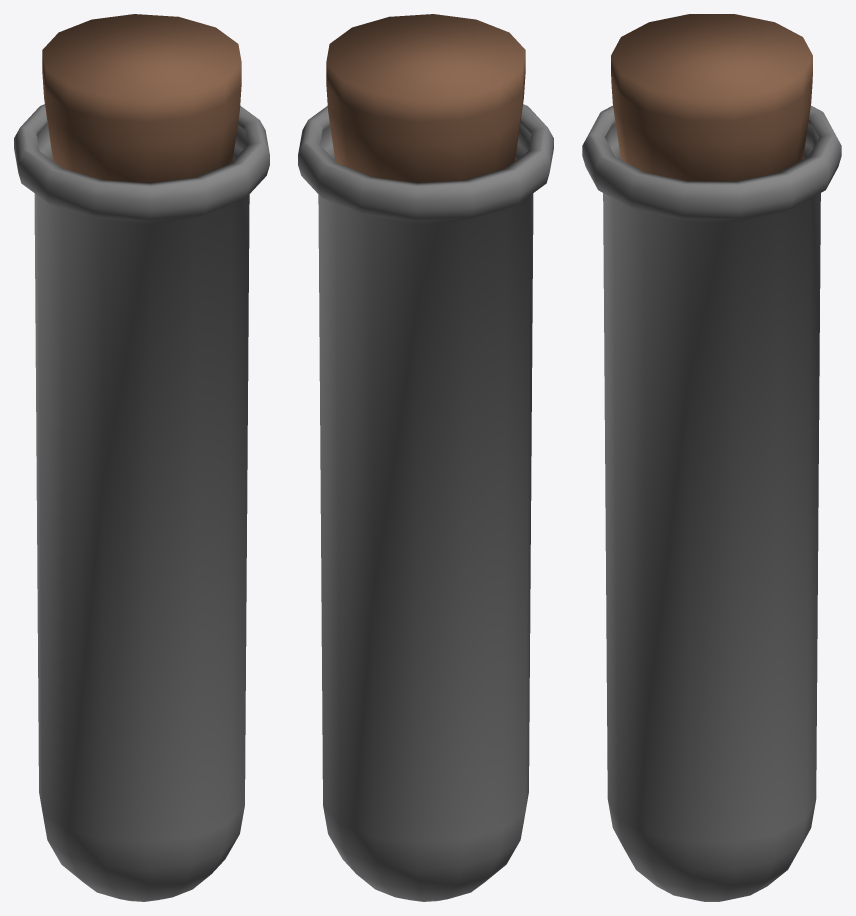
Rendered from PocionManaMenor.fbx.
The picture shows the model from 3 angles, left to right: view 1: azimuth 30°, elevation 25°; view 2: azimuth 150°, elevation 25°; view 3: azimuth 270°, elevation 25°; orthographic projection.
Parts seen in each view (by area): view 1: Vial, Corcho; view 2: Vial, Corcho; view 3: Vial, Corcho.
Boxes of the visible parts, box(x1,y1,x2,y2) form: Vial: box(14, 104, 269, 901); Corcho: box(42, 14, 241, 182); Vial: box(298, 104, 553, 901); Corcho: box(326, 14, 525, 182); Vial: box(582, 105, 841, 901); Corcho: box(611, 14, 812, 181).
Bounding box in the file's own units: 252 × 922 × 258.
